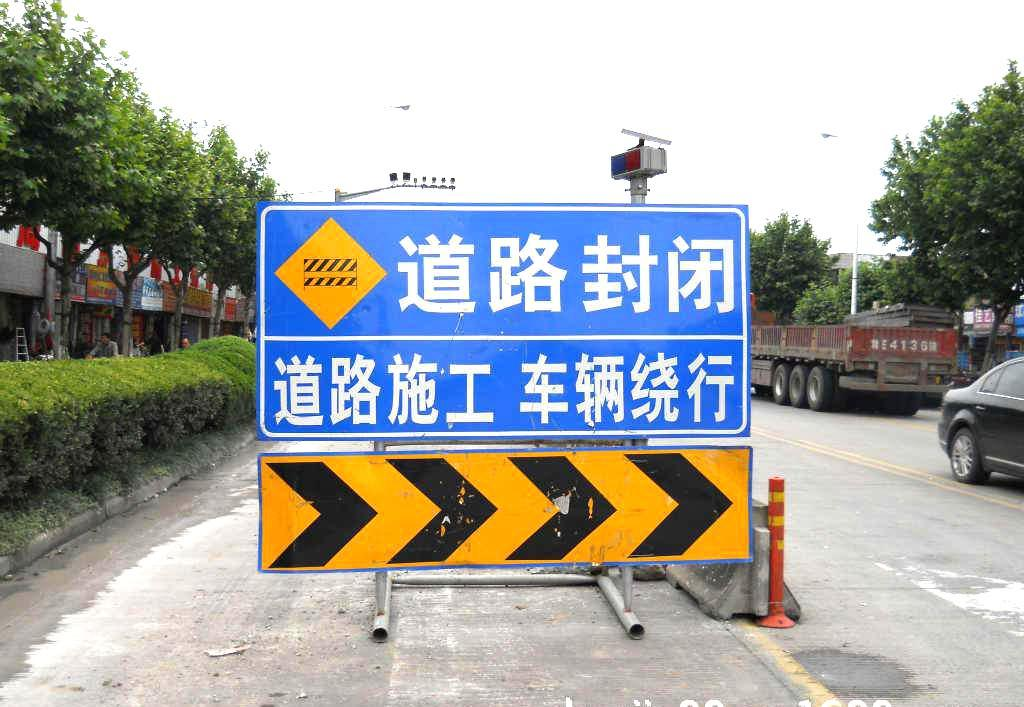sign: (260, 202, 750, 560)
